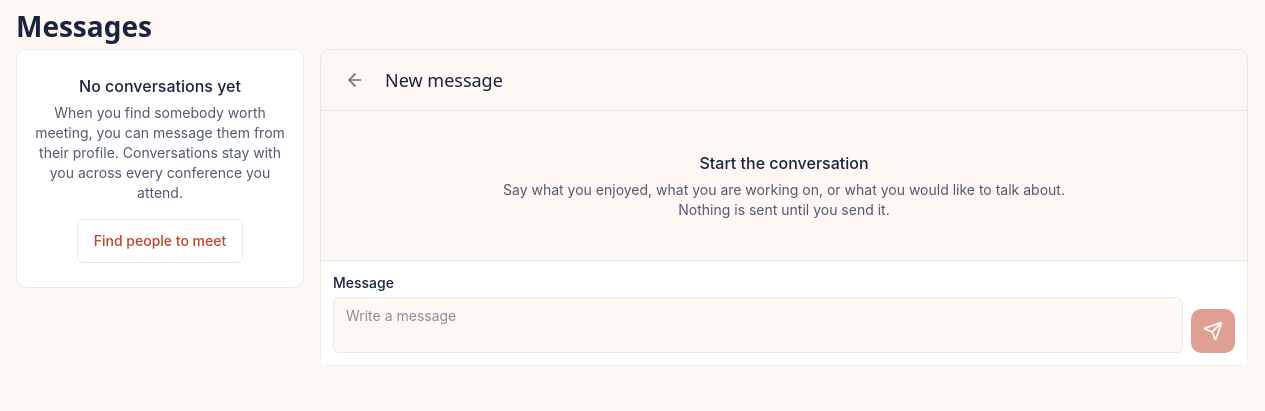
Test: the composer › keeps what was typed when the send fails, and never queues it (FR-565)
This screenshot has width=1265, height=411.
In the text box labelled "Message": (758, 325) [333,297,1183,353], type "Worth keeping."
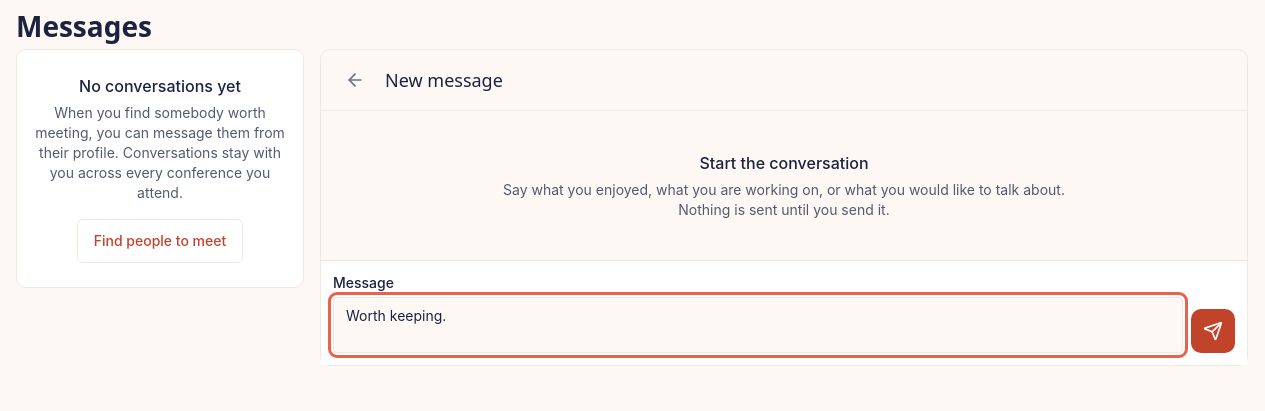
Click the button named "send message": (1213, 331) [1191,309,1235,353]
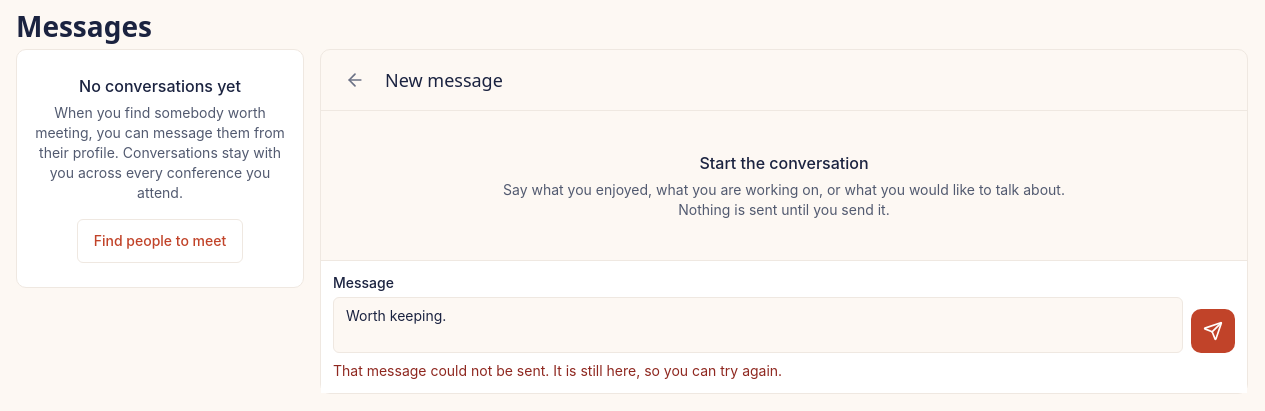
Expected: the message "That message could not be sent. It is still here, so you can try again." is shown, [333,362,782,379]
